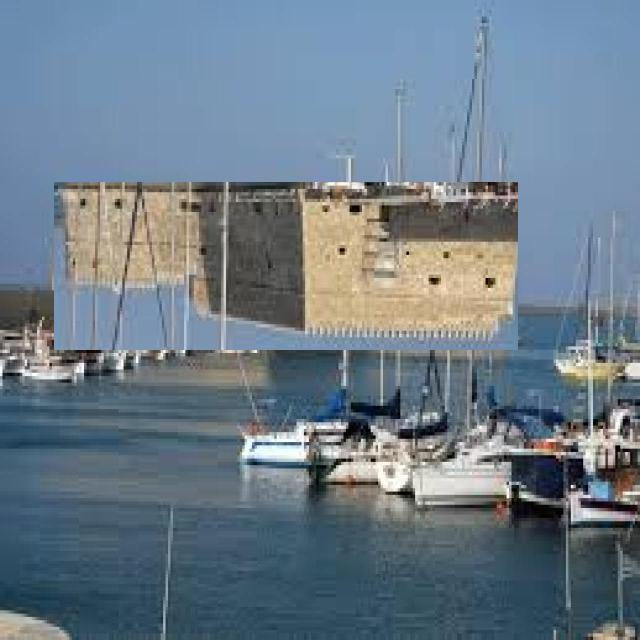Kules: (55, 183, 519, 351)
